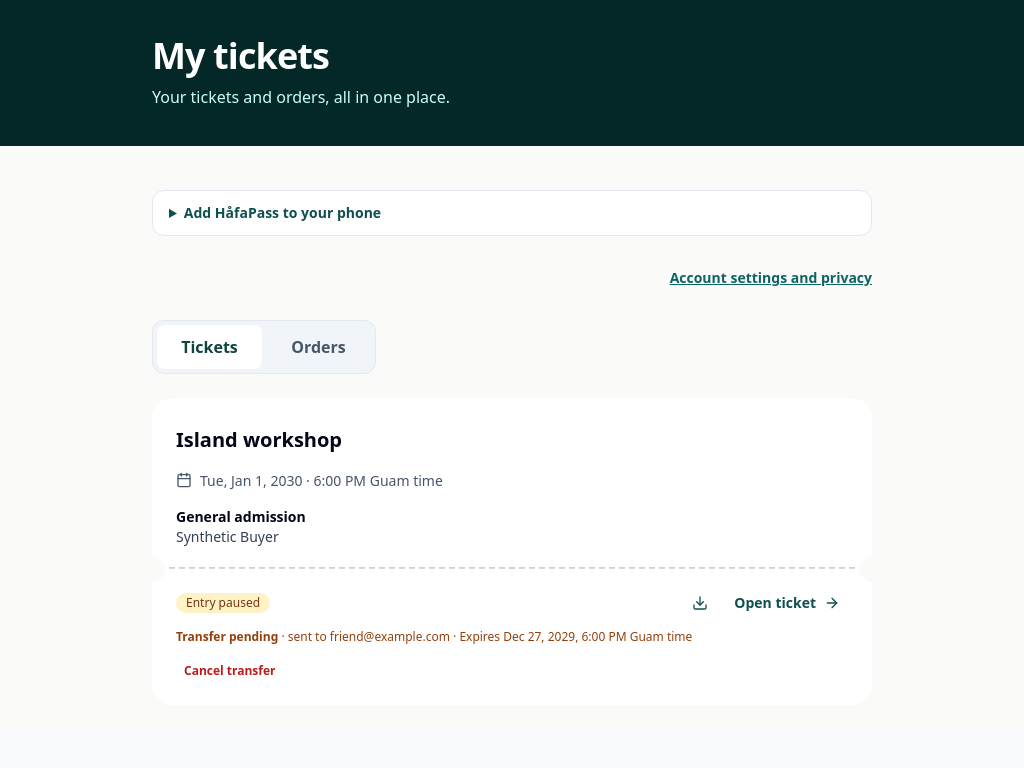
Scenario: MyTicketsPage transfers › refreshes gracefully when the recipient already accepted
The width and height of the screenshot is (1024, 768).
Click the button "Cancel transfer" at (230, 671), box [176,649,284,693]
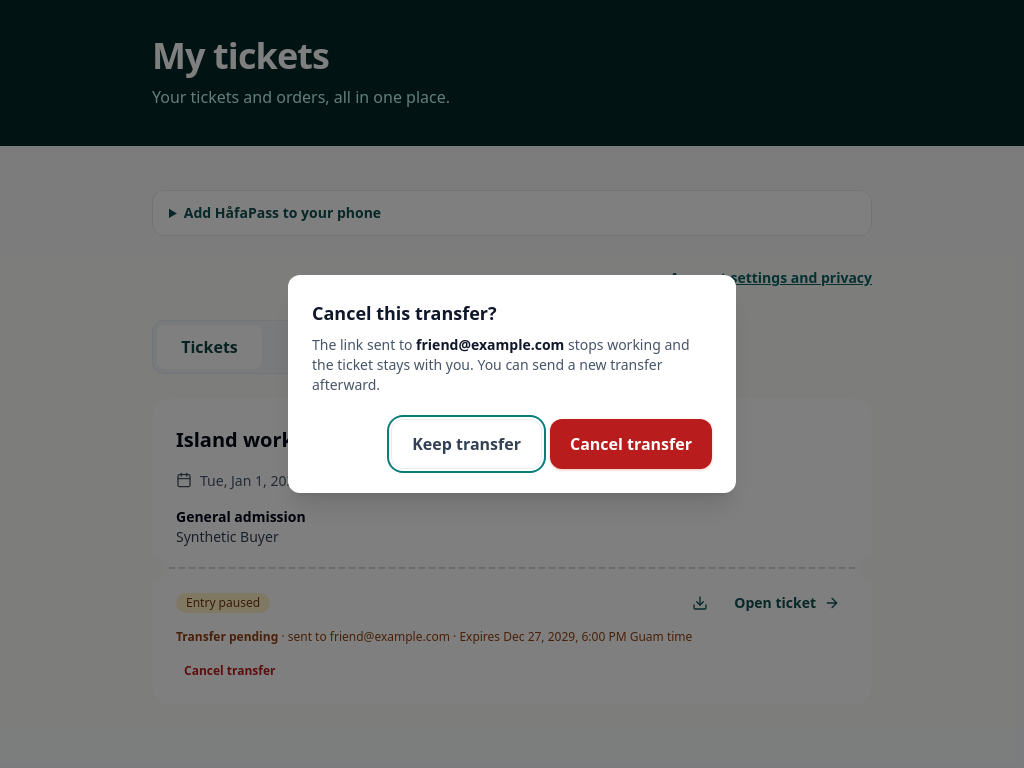
Click the button "Cancel transfer" at (631, 444), box [550,419,712,469]
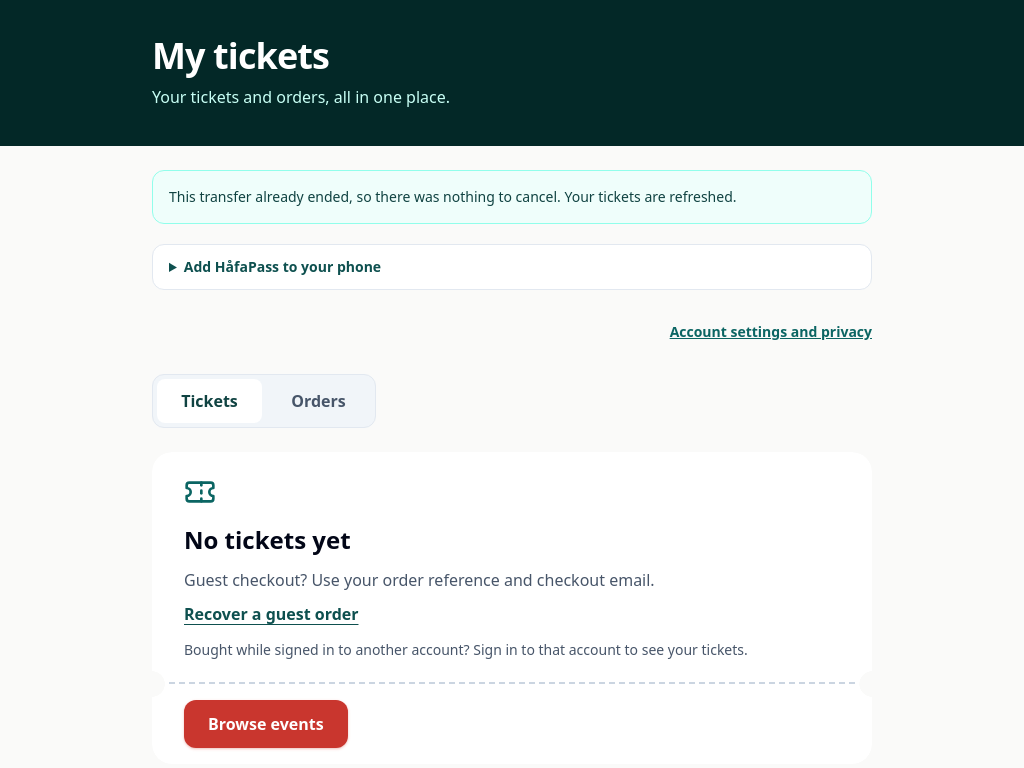
Expected: the text "This transfer already ended" is shown, [169,187,736,206]
Expected: the link "Island workshop" is gone
Expected: the dialog is gone
